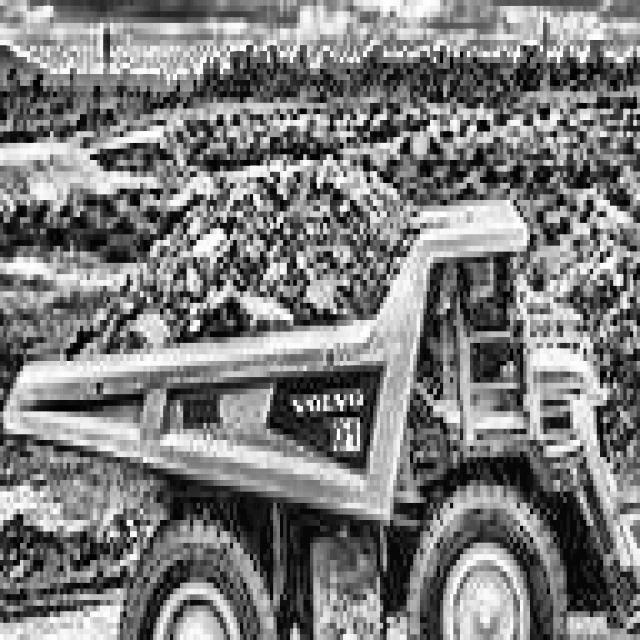dump_truck: (3, 148, 639, 640)
